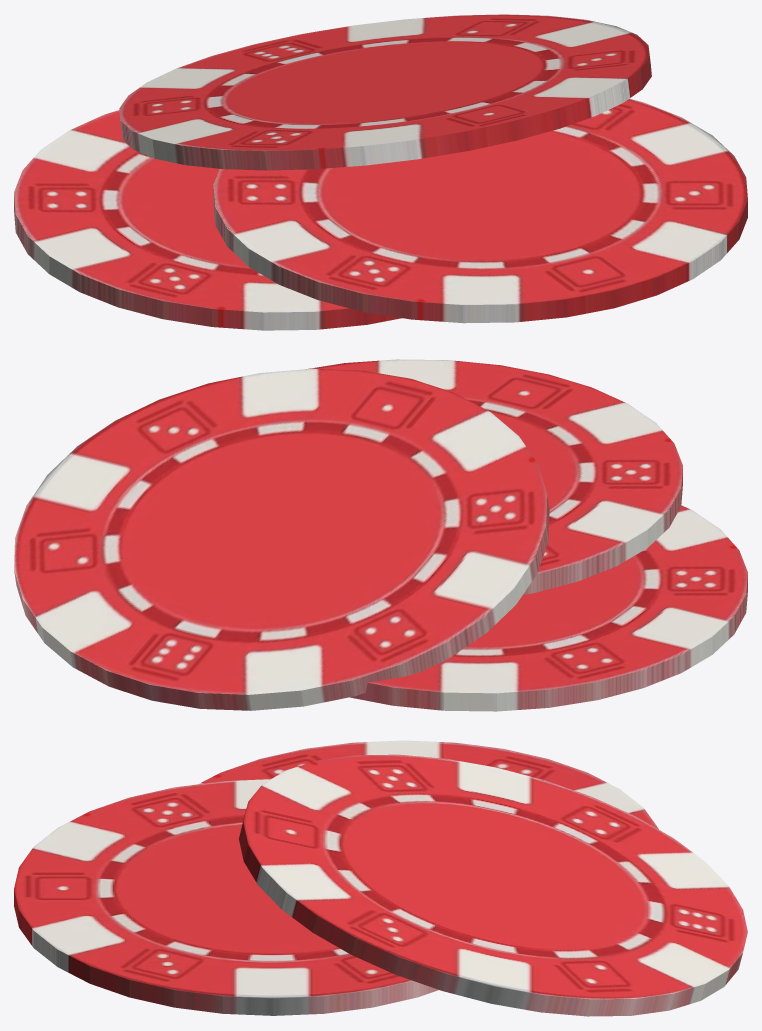
File: CHIPS_RED.fbx
The picture shows the model from 3 angles, top to bottom: view 1: azimuth 30°, elevation 25°; view 2: azimuth 150°, elevation 25°; view 3: azimuth 270°, elevation 25°; orthographic projection. The views are drawn at different scales.
Visible parts, largest first — view 1: Cylinder.002, Cylinder.007, Cylinder.001; view 2: Cylinder.007, Cylinder.001, Cylinder.002; view 3: Cylinder.007, Cylinder.002, Cylinder.001.
Boxes of the visible parts, bbox=[...] form: Cylinder.002: bbox=[213, 98, 747, 323]; Cylinder.007: bbox=[119, 14, 651, 170]; Cylinder.001: bbox=[14, 110, 401, 330]; Cylinder.007: bbox=[14, 368, 549, 710]; Cylinder.001: bbox=[350, 505, 747, 711]; Cylinder.002: bbox=[306, 359, 682, 594]; Cylinder.007: bbox=[239, 754, 747, 1016]; Cylinder.002: bbox=[14, 779, 438, 1015]; Cylinder.001: bbox=[198, 740, 658, 829].
Size of the model in its own units: 256 by 52.19 by 273.
Materials: 3 (3 with a texture image).
